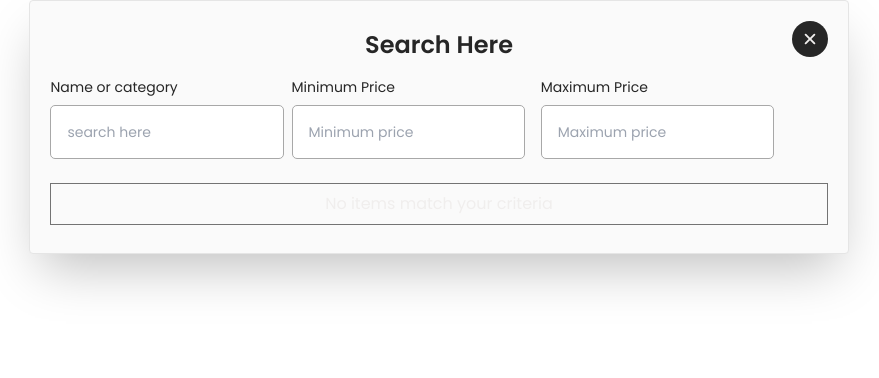
Test: SearchComponent › SearchComponent - No Products Found › clears searched products when no results are found
Type "initial" into the search field with placeholder "search here" at x=167, y=132, box [59, 114, 275, 150]
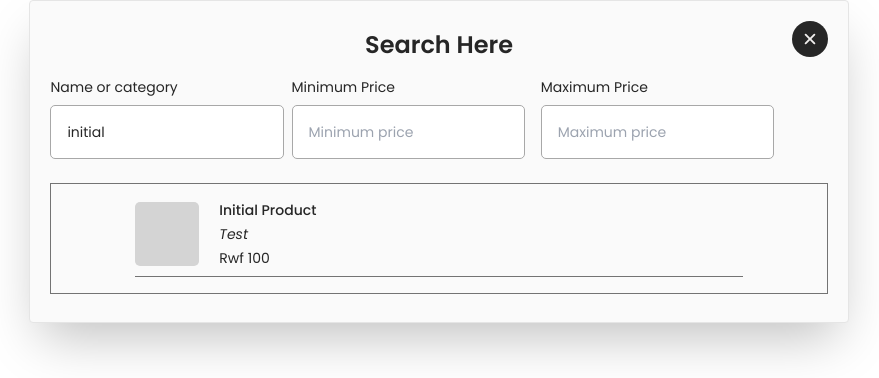
expect the text "Initial Product" is shown: met, box [219, 200, 316, 220]
Replace the text in the search field with placeholder "search here" with "nonexistent" at x=167, y=132, box [59, 114, 275, 150]
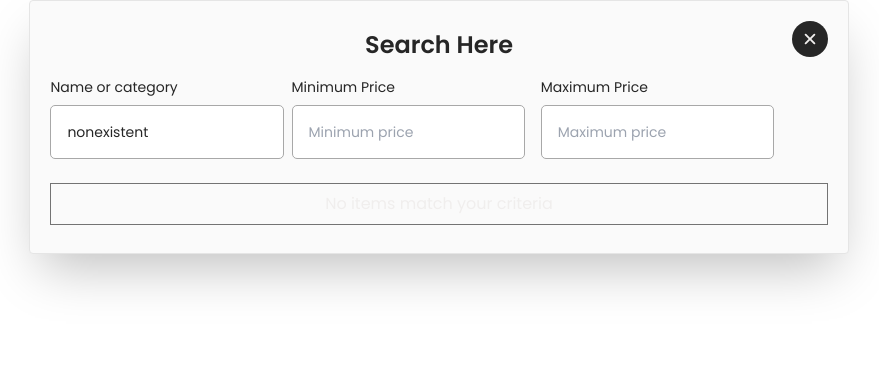
expect the link "Initial Product" is gone: met
